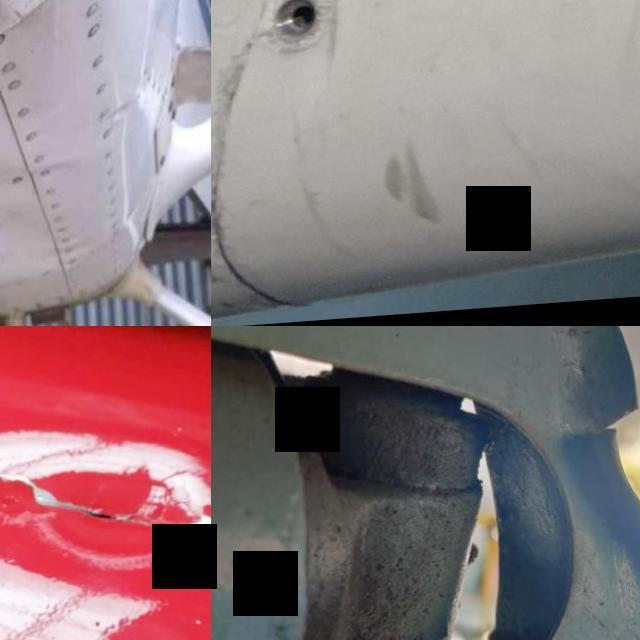Crack: (0, 423, 211, 591), (568, 400, 640, 468)
Missing_Fastener: (256, 0, 324, 49)
